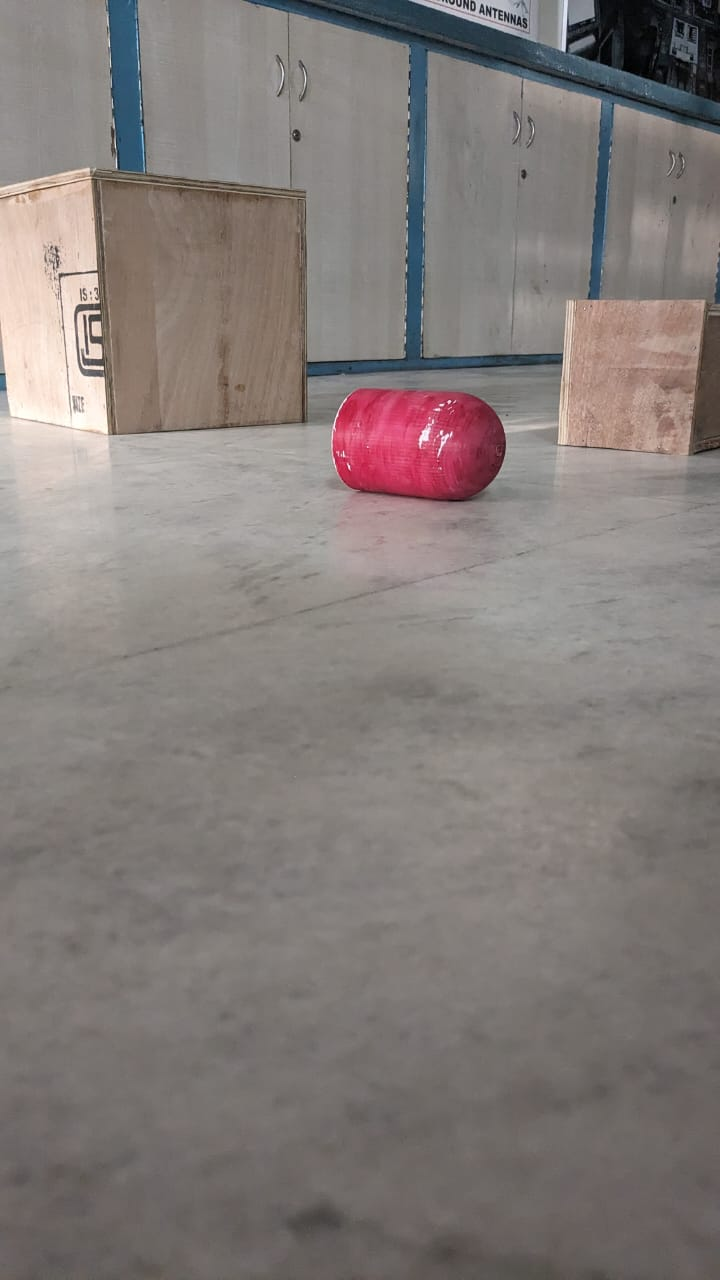150mm obstacle: (560, 300, 710, 462)
300mm obstacle: (8, 174, 323, 444)
testtube: (331, 381, 517, 504)
